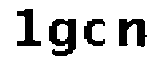1: (13, 6, 45, 49)
c: (82, 17, 109, 49)
g: (46, 15, 79, 60)
n: (118, 18, 148, 51)
